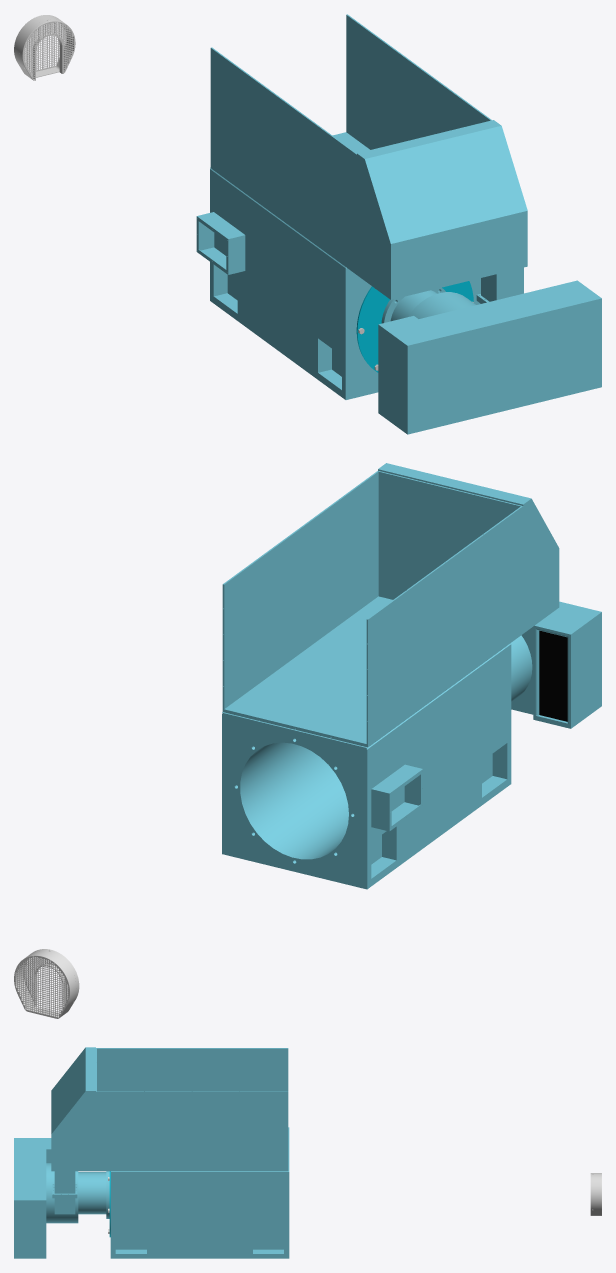
Rendered from tambahan 1.fbx.
The picture shows the model from 3 angles, top to bottom: view 1: azimuth 30°, elevation 25°; view 2: azimuth 150°, elevation 25°; view 3: azimuth 270°, elevation 25°; orthographic projection. The views are drawn at different scales.
Parts seen in each view (by area): view 1: assembly full_housing motor.001, assembly full_cover belakang motor.001, assembly full_cover kipas pompa, assembly full_cover motor belakang, assembly full_cover kipas pompa part 2; view 2: assembly full_housing motor.001, assembly full_cover belakang motor.001, assembly full_cover kipas pompa, assembly full_cover kipas pompa part 2; view 3: assembly full_housing motor.001, assembly full_cover belakang motor.001, assembly full_cover kipas pompa.
Part boxes in pixels (x1=…): assembly full_housing motor.001: x1=196, y1=14, x2=527, y2=399; assembly full_cover belakang motor.001: x1=378, y1=280, x2=601, y2=434; assembly full_cover kipas pompa: x1=14, y1=15, x2=71, y2=77; assembly full_cover motor belakang: x1=356, y1=281, x2=473, y2=372; assembly full_cover kipas pompa part 2: x1=19, y1=19, x2=75, y2=80; assembly full_housing motor.001: x1=222, y1=463, x2=559, y2=889; assembly full_cover belakang motor.001: x1=510, y1=601, x2=601, y2=728; assembly full_cover kipas pompa: x1=14, y1=951, x2=76, y2=1018; assembly full_cover kipas pompa part 2: x1=20, y1=949, x2=79, y2=1012; assembly full_housing motor.001: x1=51, y1=1047, x2=289, y2=1258; assembly full_cover belakang motor.001: x1=14, y1=1138, x2=109, y2=1258; assembly full_cover kipas pompa: x1=594, y1=1173, x2=601, y2=1215.
Bounding box in the file's own units: 7051 × 8602 × 27349.
